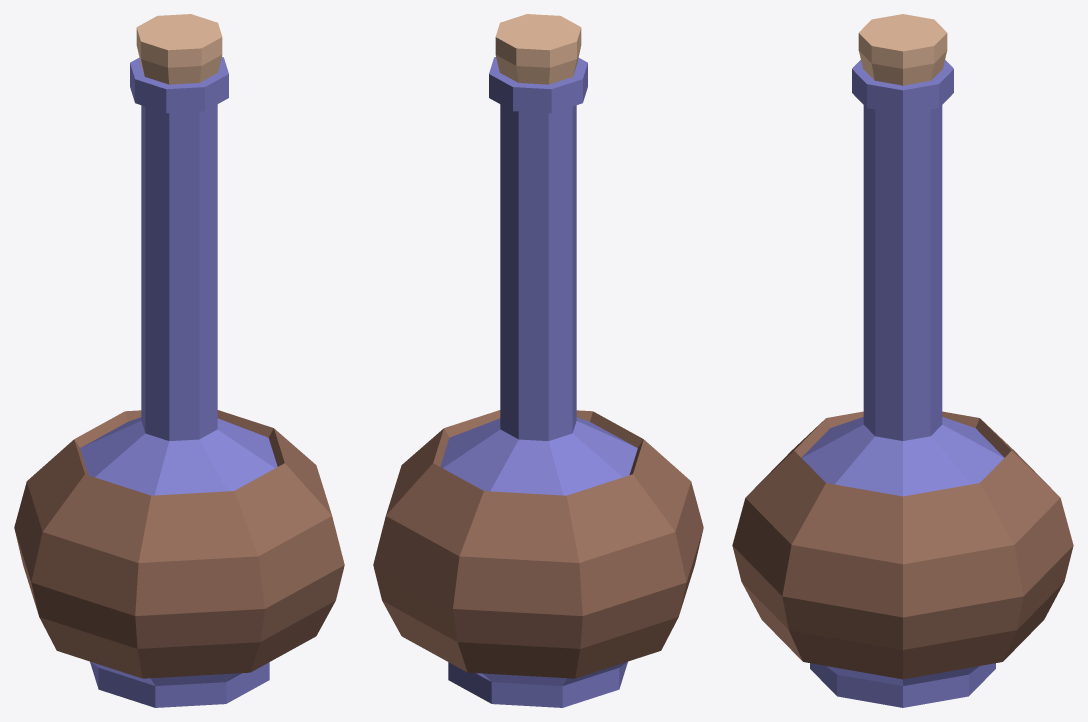
The model's file is Potion F.glb.
The picture shows the model from 3 angles, left to right: view 1: azimuth 30°, elevation 25°; view 2: azimuth 150°, elevation 25°; view 3: azimuth 270°, elevation 25°; orthographic projection.
Parts seen in each view (by area): view 1: Potion F; view 2: Potion F; view 3: Potion F.
Part boxes in pixels (<box>): Potion F: <box>14,14,344,707</box>; Potion F: <box>373,14,703,707</box>; Potion F: <box>732,14,1073,707</box>.
Bounding box in the file's own units: 0.076 × 0.1563 × 0.076.
